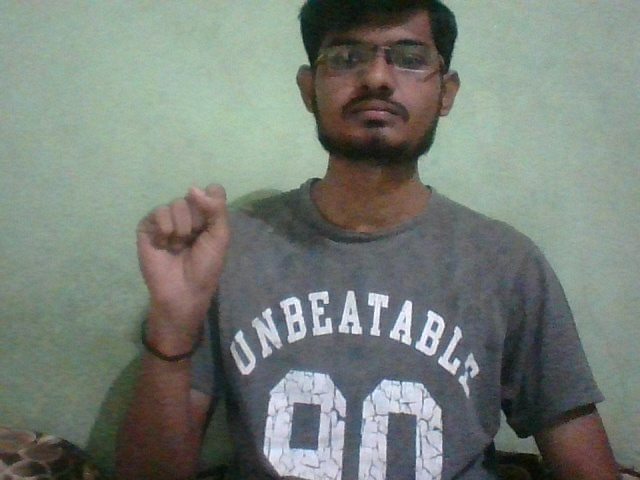yes: (111, 175, 266, 338)
